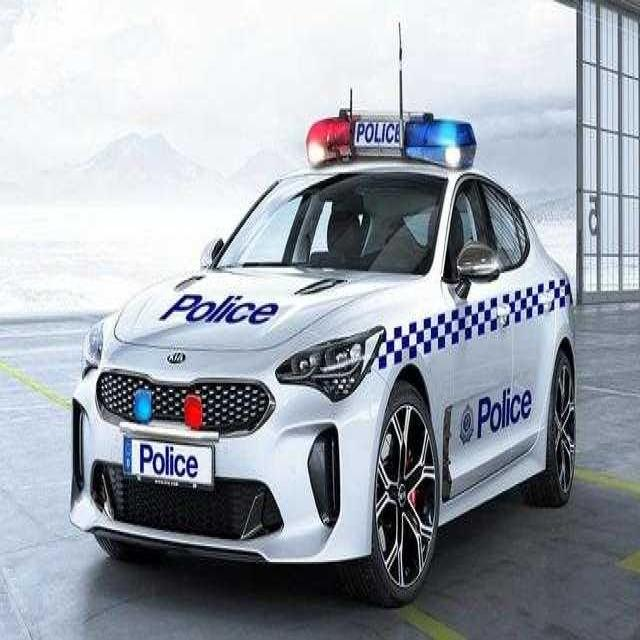firetruck: (60, 87, 590, 608)
